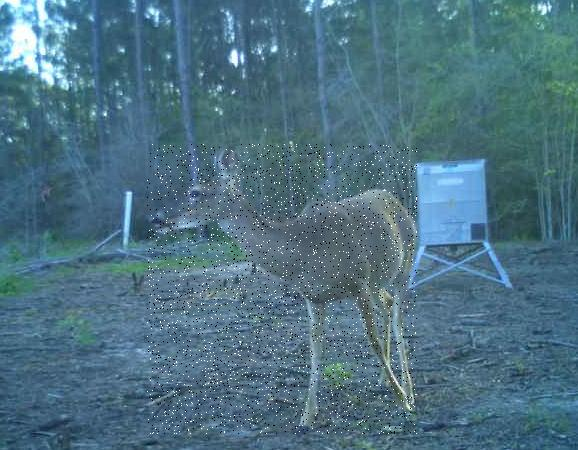Deer: (146, 144, 416, 434)
